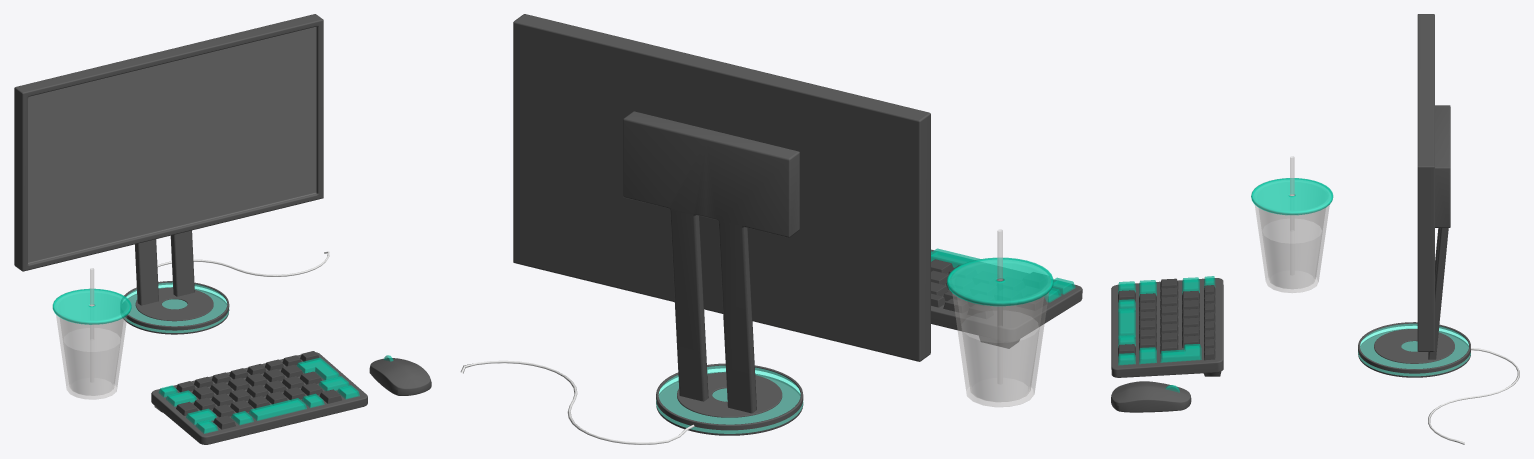
The model's file is computer.glb.
3 renders of one model, left to right at view 1: azimuth 30°, elevation 25°; view 2: azimuth 150°, elevation 25°; view 3: azimuth 270°, elevation 25°, orthographic. The views are drawn at different scales.
Parts seen in each view (by area): view 1: lcd, Keys, Keyboard, Cup, base, Liquid, MonitorSupport, Lid, mouse, PowerCord; view 2: lcd, MonitorSupport, Cup, base, Liquid, Keys, Keyboard, Lid, PowerCord; view 3: Keys, lcd, Keyboard, Cup, base, Liquid, MonitorSupport, Lid, mouse, PowerCord.
Boxes of the visible parts, x1,y1,x2,y2 form: lcd: [14, 14, 323, 271]; Keys: [158, 351, 359, 433]; Keyboard: [151, 352, 367, 444]; Cup: [56, 304, 127, 399]; base: [121, 281, 229, 334]; Liquid: [63, 328, 120, 395]; MonitorSupport: [135, 230, 194, 305]; Lid: [52, 288, 131, 324]; mouse: [369, 358, 431, 395]; PowerCord: [157, 251, 329, 276]; lcd: [513, 14, 930, 361]; MonitorSupport: [623, 111, 799, 413]; Cup: [952, 279, 1048, 406]; base: [656, 363, 803, 435]; Liquid: [962, 310, 1038, 401]; Keys: [931, 248, 1075, 318]; Keyboard: [931, 249, 1082, 341]; Lid: [947, 257, 1053, 306]; PowerCord: [460, 360, 694, 444]; Keys: [1118, 276, 1215, 365]; lcd: [1417, 14, 1434, 351]; Keyboard: [1111, 278, 1223, 377]; Cup: [1255, 194, 1329, 292]; base: [1358, 322, 1470, 377]; Liquid: [1262, 219, 1321, 288]; MonitorSupport: [1428, 105, 1450, 359]; Lid: [1251, 178, 1333, 215]; mouse: [1111, 381, 1191, 412]; PowerCord: [1428, 348, 1519, 444].
Size of what is drawn, in the model's own units: 10.72 by 7.47 by 10.4.
